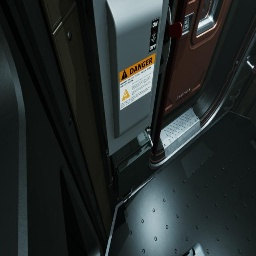SafetySwitchPanel ,: (86, 0, 182, 156)
